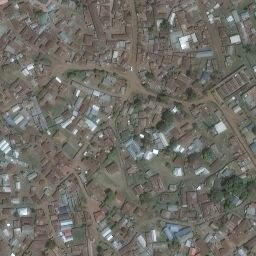tree: (139, 191, 152, 204), (202, 147, 213, 161), (161, 110, 173, 121), (186, 88, 197, 100), (160, 18, 171, 30), (156, 93, 168, 103), (45, 239, 56, 249), (156, 121, 167, 130), (146, 72, 155, 80), (134, 99, 142, 107)
